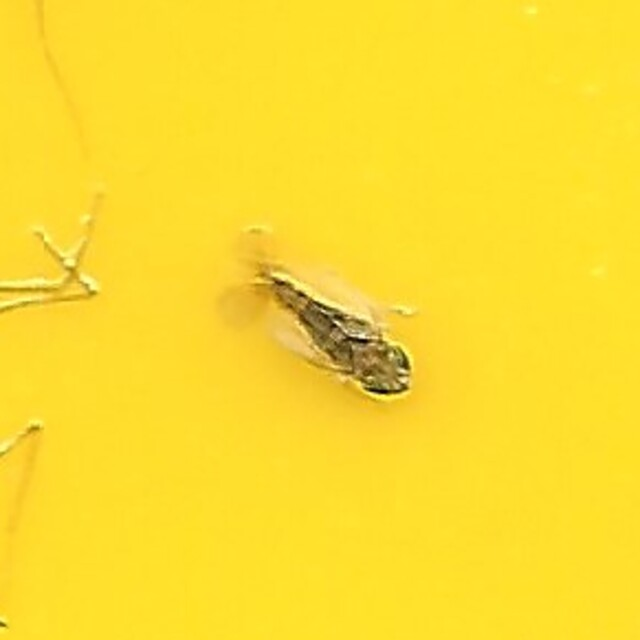Hemiptera: (220, 221, 420, 419)
